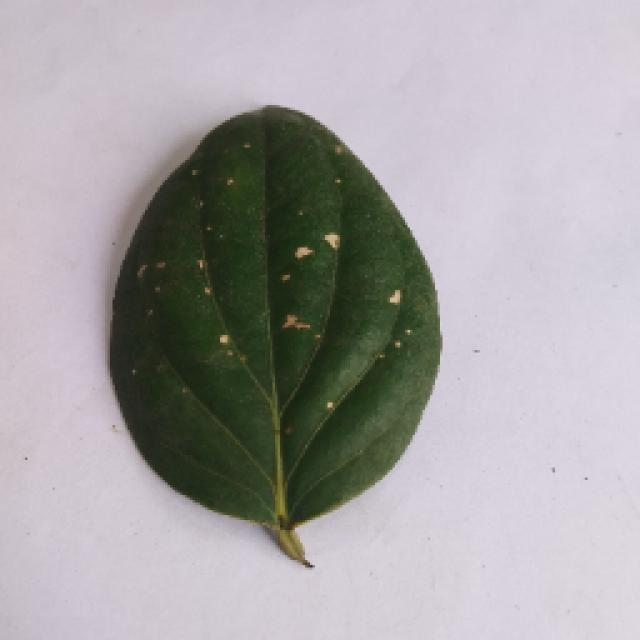pollu-disease: (98, 98, 448, 562)
